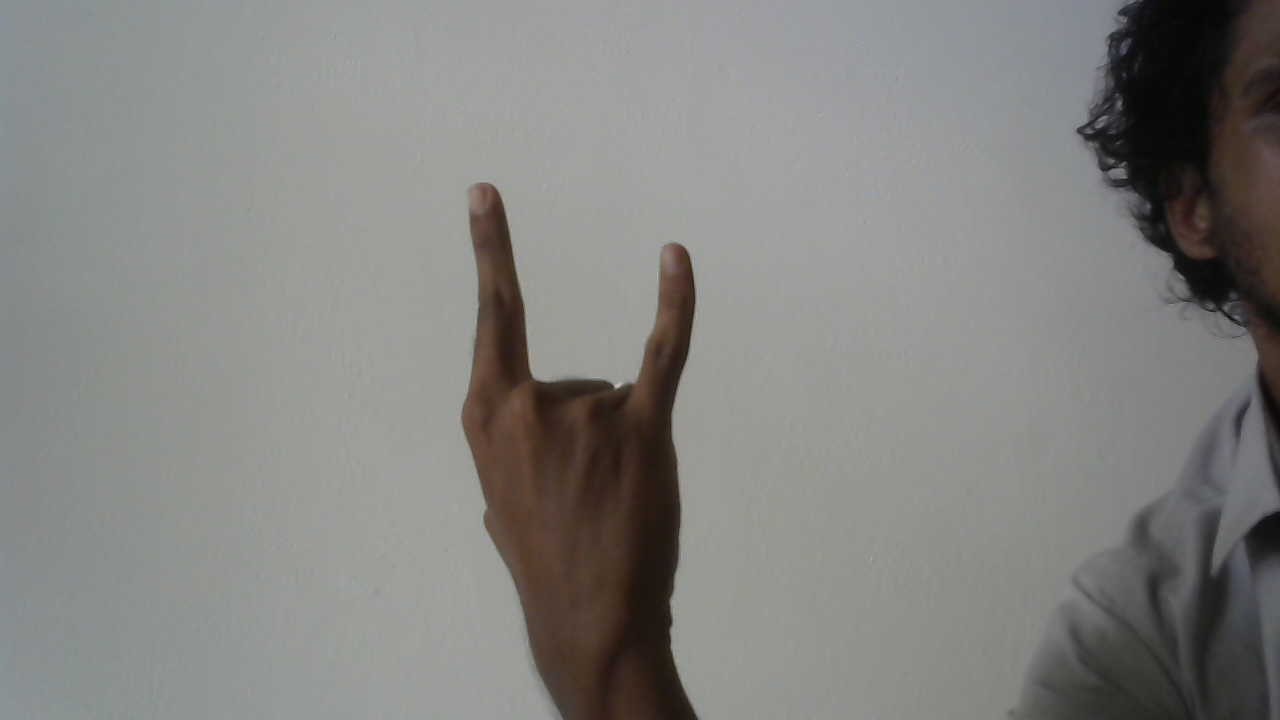iloveyou: (445, 173, 702, 655)
